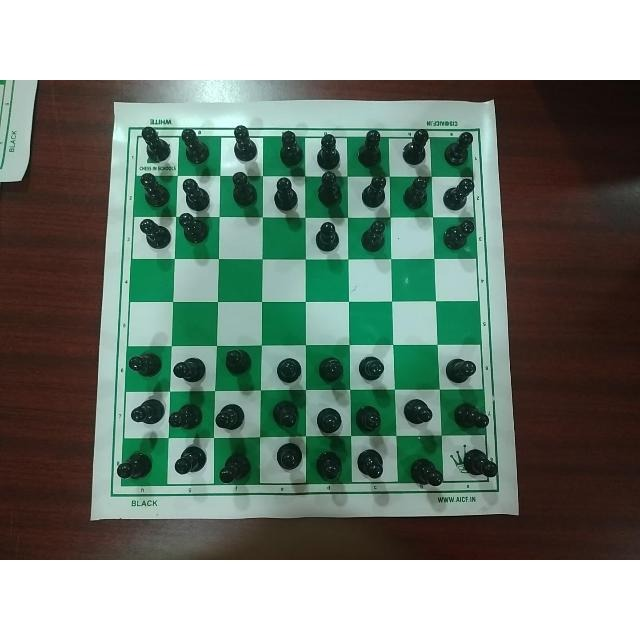black-pawn: (405, 449, 446, 488), (178, 120, 214, 164), (134, 123, 173, 163), (178, 172, 217, 210), (269, 177, 305, 217), (440, 173, 476, 213), (134, 217, 170, 257), (440, 219, 480, 255), (135, 168, 171, 207), (225, 167, 260, 207), (399, 170, 434, 210), (273, 127, 305, 170), (459, 447, 498, 482), (449, 401, 490, 434), (314, 171, 348, 210), (171, 352, 211, 385), (316, 126, 348, 167), (357, 169, 388, 211), (226, 126, 262, 162), (167, 395, 204, 430), (129, 399, 167, 433), (116, 450, 154, 484), (444, 127, 476, 167), (176, 212, 212, 247), (401, 128, 432, 168), (359, 125, 387, 169), (313, 219, 347, 255), (271, 353, 305, 389), (402, 393, 435, 430), (125, 351, 161, 383), (353, 398, 384, 435), (223, 344, 254, 380), (357, 446, 388, 482), (214, 397, 247, 430), (268, 399, 302, 431), (361, 218, 391, 254), (173, 445, 209, 475), (219, 454, 252, 486), (315, 447, 347, 480), (316, 350, 346, 385), (356, 353, 388, 385), (314, 404, 346, 436), (445, 353, 476, 385), (271, 441, 302, 473)
